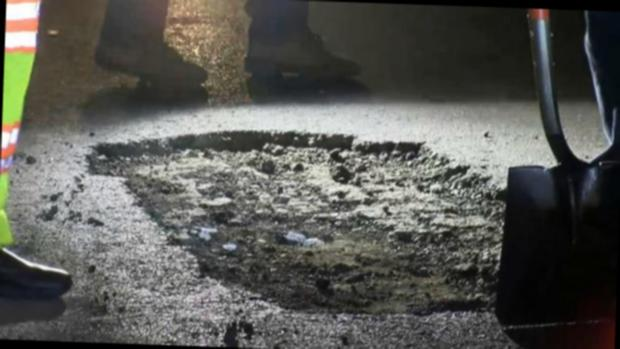pothole: (54, 117, 566, 334)
